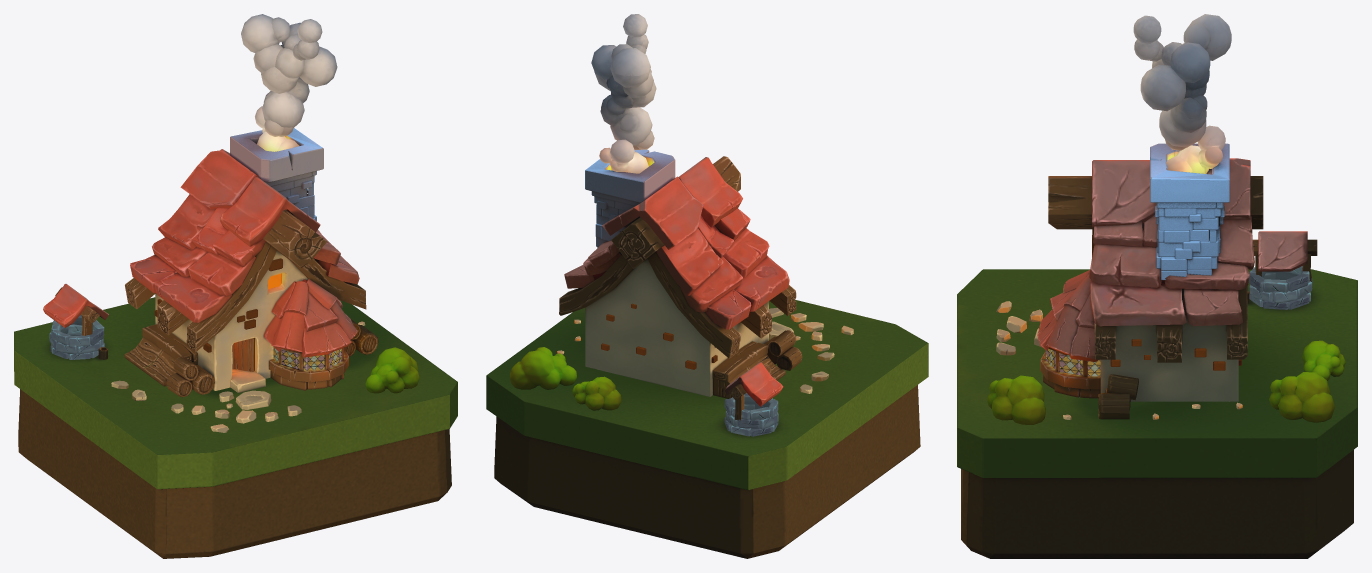
Rendered from house.glb.
3 renders of one model, left to right at view 1: azimuth 30°, elevation 25°; view 2: azimuth 150°, elevation 25°; view 3: azimuth 270°, elevation 25°, orthographic. The views are drawn at different scales.
Visible parts, largest first — view 1: Plane, Plane.001, Cube.016, Cube.039, skla a dym_mergedObject.002, Cube.024, Cube.100, Sphere.001, Cube.229, Plane.003; view 2: Plane, Plane.001, Cube.016, Cube.024, Cube.039, skla a dym_mergedObject.002, Cube.100, Sphere.001, Cube.229; view 3: Plane, Plane.001, Cube.016, skla a dym_mergedObject.002, Cube.039, Cube.024, Cube.100, Sphere.001, Cube.229, Plane.003.
Boxes of the visible parts, x1=… form: Plane: x1=14, y1=297, x2=457, y2=489; Plane.001: x1=18, y1=389, x2=451, y2=558; Cube.016: x1=43, y1=149, x2=359, y2=357; Cube.039: x1=55, y1=209, x2=378, y2=397; skla a dym_mergedObject.002: x1=241, y1=14, x2=337, y2=151; Cube.024: x1=111, y1=250, x2=365, y2=432; Cube.100: x1=230, y1=128, x2=323, y2=221; Sphere.001: x1=365, y1=347, x2=419, y2=393; Cube.229: x1=49, y1=315, x2=104, y2=359; Plane.003: x1=273, y1=347, x2=341, y2=370; Plane: x1=486, y1=300, x2=928, y2=490; Plane.001: x1=494, y1=385, x2=920, y2=558; Cube.016: x1=564, y1=157, x2=789, y2=406; Cube.024: x1=557, y1=226, x2=853, y2=396; Cube.039: x1=559, y1=156, x2=802, y2=420; skla a dym_mergedObject.002: x1=591, y1=14, x2=656, y2=173; Cube.100: x1=585, y1=149, x2=675, y2=247; Sphere.001: x1=510, y1=347, x2=621, y2=410; Cube.229: x1=724, y1=393, x2=778, y2=436; Plane: x1=957, y1=269, x2=1357, y2=477; Plane.001: x1=961, y1=450, x2=1353, y2=558; Cube.016: x1=1037, y1=158, x2=1307, y2=361; skla a dym_mergedObject.002: x1=1133, y1=14, x2=1231, y2=173; Cube.039: x1=1040, y1=176, x2=1317, y2=419; Cube.024: x1=996, y1=223, x2=1242, y2=419; Cube.100: x1=1150, y1=143, x2=1229, y2=280; Sphere.001: x1=987, y1=340, x2=1345, y2=424; Cube.229: x1=1249, y1=266, x2=1312, y2=309; Plane.003: x1=1046, y1=348, x2=1100, y2=376.
Bounding box in the file's own units: 4.77 × 6.64 × 4.77.
11 materials, 11 textured.
